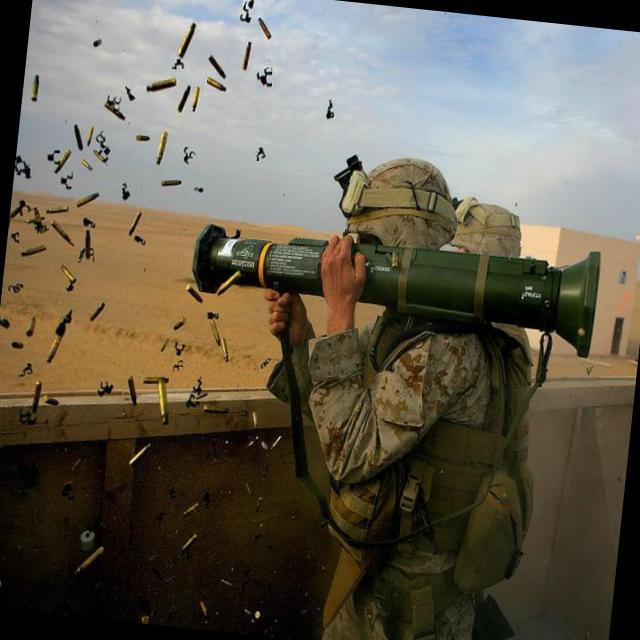rocket: (175, 207, 622, 358)
